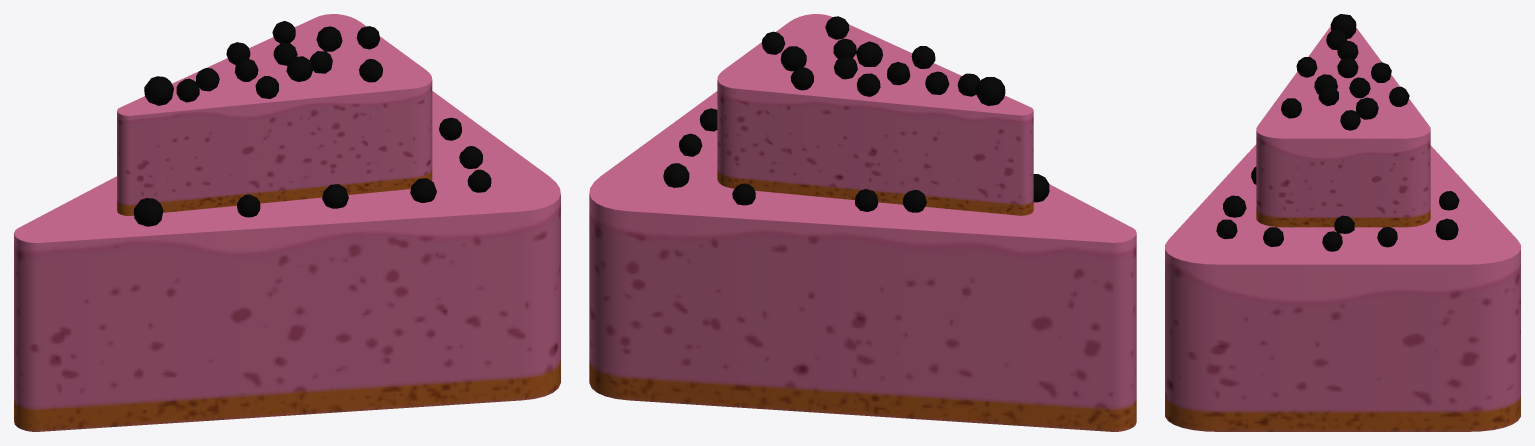
Rendered from cake2.fbx.
3 views of the same model, side by side, from view 1: azimuth 30°, elevation 25°; view 2: azimuth 150°, elevation 25°; view 3: azimuth 270°, elevation 25° (orthographic). The views are drawn at different scales.
Parts seen in each view (by area): view 1: polySurface631, polySurface653; view 2: polySurface631, polySurface653; view 3: polySurface631, polySurface653.
Boxes of the visible parts, left/top/right/bottom form: polySurface631: left=14, top=91, right=560, bottom=431; polySurface653: left=117, top=14, right=432, bottom=215; polySurface631: left=589, top=91, right=1136, bottom=431; polySurface653: left=717, top=14, right=1033, bottom=215; polySurface631: left=1165, top=144, right=1520, bottom=431; polySurface653: left=1256, top=14, right=1430, bottom=227.
Size of the model in its own units: 241 by 157 by 181.
